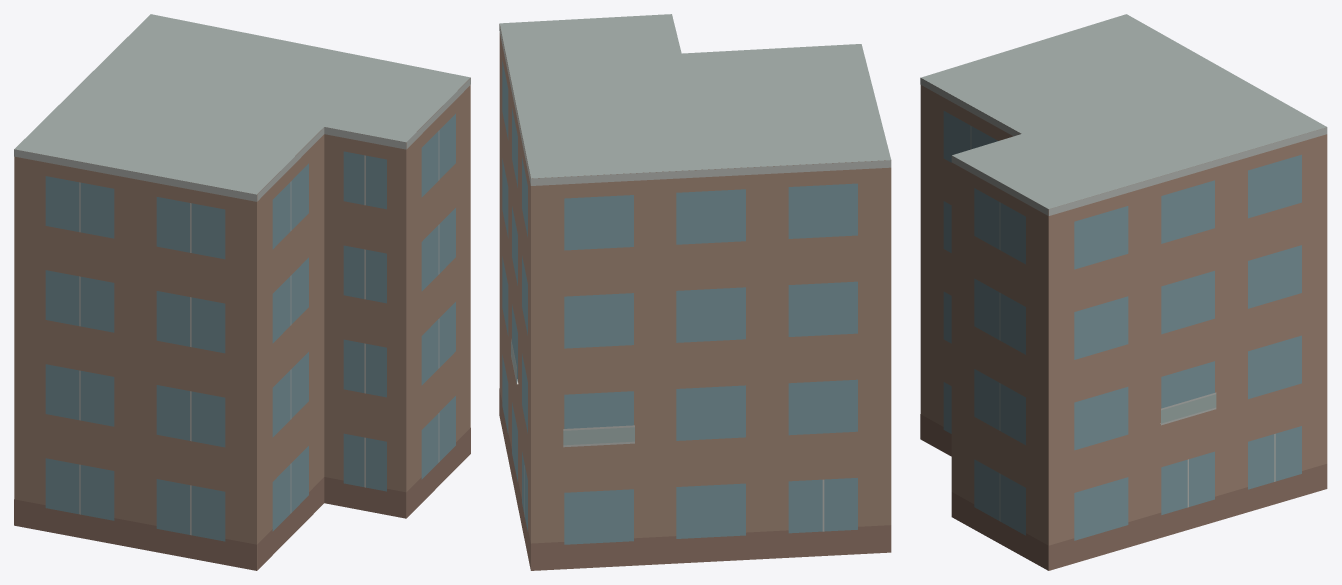
File: survey-upis-32935295.glb
3 renders of one model, left to right at view 1: azimuth 30°, elevation 25°; view 2: azimuth 150°, elevation 25°; view 3: azimuth 270°, elevation 25°, orthographic. The views are drawn at different scales.
Parts seen in each view (by area): view 1: survey-upis-32935295.tmp; view 2: survey-upis-32935295.tmp; view 3: survey-upis-32935295.tmp.
Boxes of the visible parts, left/top/right/bottom form: survey-upis-32935295.tmp: left=14, top=14, right=470, bottom=570; survey-upis-32935295.tmp: left=499, top=14, right=891, bottom=570; survey-upis-32935295.tmp: left=920, top=14, right=1327, bottom=570.
Size of the model in its own units: 14.59 by 12.6 by 12.85.
